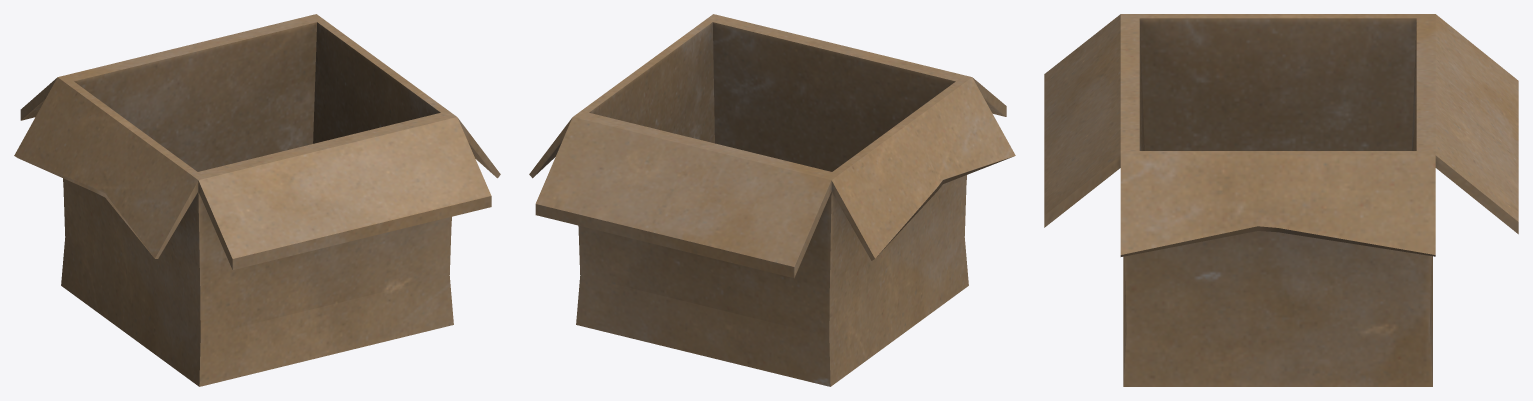
The picture shows the model from 3 angles, left to right: view 1: azimuth 30°, elevation 25°; view 2: azimuth 150°, elevation 25°; view 3: azimuth 270°, elevation 25°; orthographic projection. The views are drawn at different scales.
Parts seen in each view (by area): view 1: SM_Box_1_LOD0; view 2: SM_Box_1_LOD0; view 3: SM_Box_1_LOD0.
Part boxes in pixels (x1,y1,x2,y2): SM_Box_1_LOD0: (14, 14, 500, 386); SM_Box_1_LOD0: (529, 14, 1015, 386); SM_Box_1_LOD0: (1044, 14, 1518, 386).
Size of the model in its own units: 34.44 by 36.56 by 19.8.
Materials: 1 (1 with a texture image).
